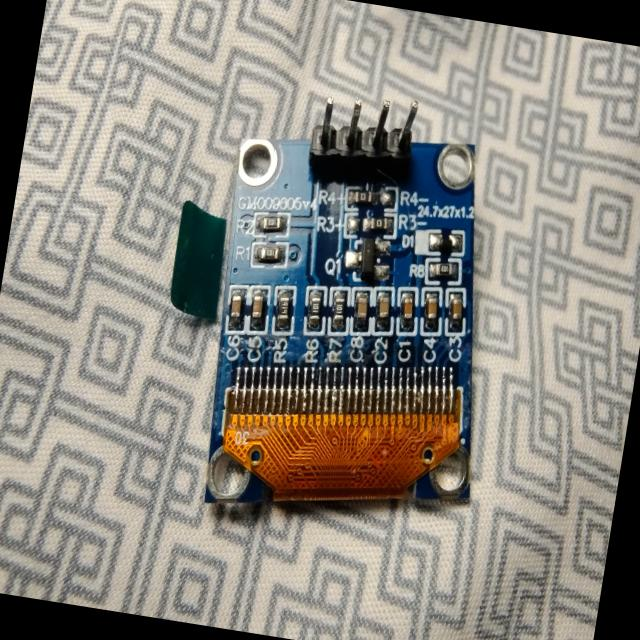oled: (130, 67, 550, 559)
